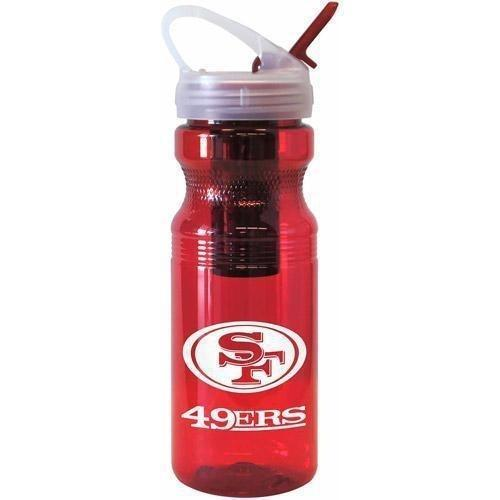gym bottle: (162, 3, 324, 499)
